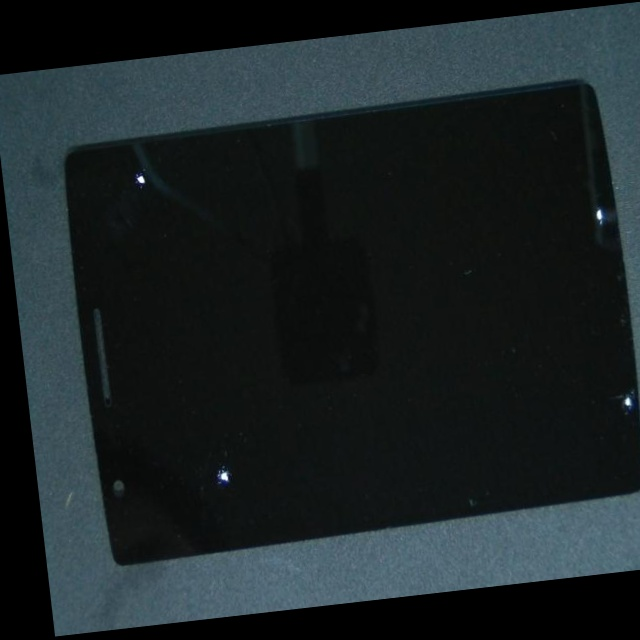stain: (321, 161, 640, 591), (297, 60, 640, 312), (125, 227, 331, 624), (69, 164, 241, 291)
